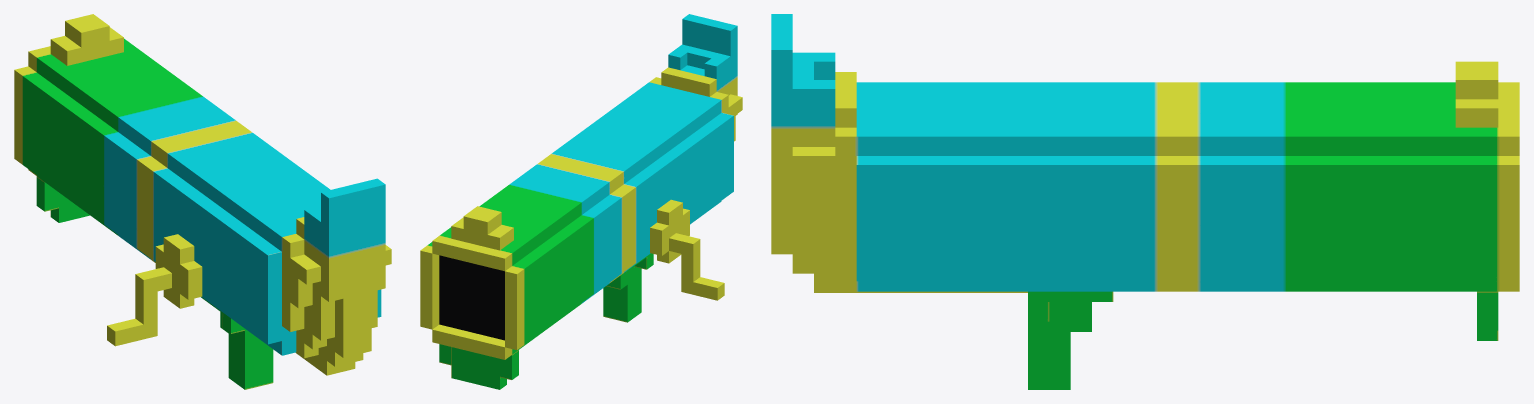
The model's file is BazookaKawaiiDesune.dae.
The picture shows the model from 3 angles, left to right: view 1: azimuth 30°, elevation 25°; view 2: azimuth 150°, elevation 25°; view 3: azimuth 270°, elevation 25°; orthographic projection. The views are drawn at different scales.
Parts seen in each view (by area): view 1: GunKawaiiDesune; view 2: GunKawaiiDesune; view 3: GunKawaiiDesune.
Part boxes in pixels (x1=…): GunKawaiiDesune: x1=14, y1=14, x2=391, y2=389; GunKawaiiDesune: x1=420, y1=14, x2=742, y2=389; GunKawaiiDesune: x1=771, y1=14, x2=1519, y2=389.
Size of the model in its own units: 13 by 18 by 35.
1 material, 1 textured.
